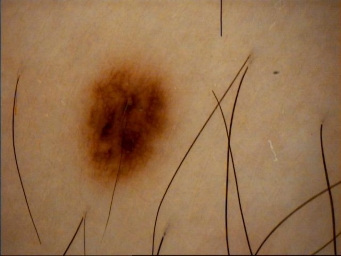melanoma: (83, 66, 172, 185)
